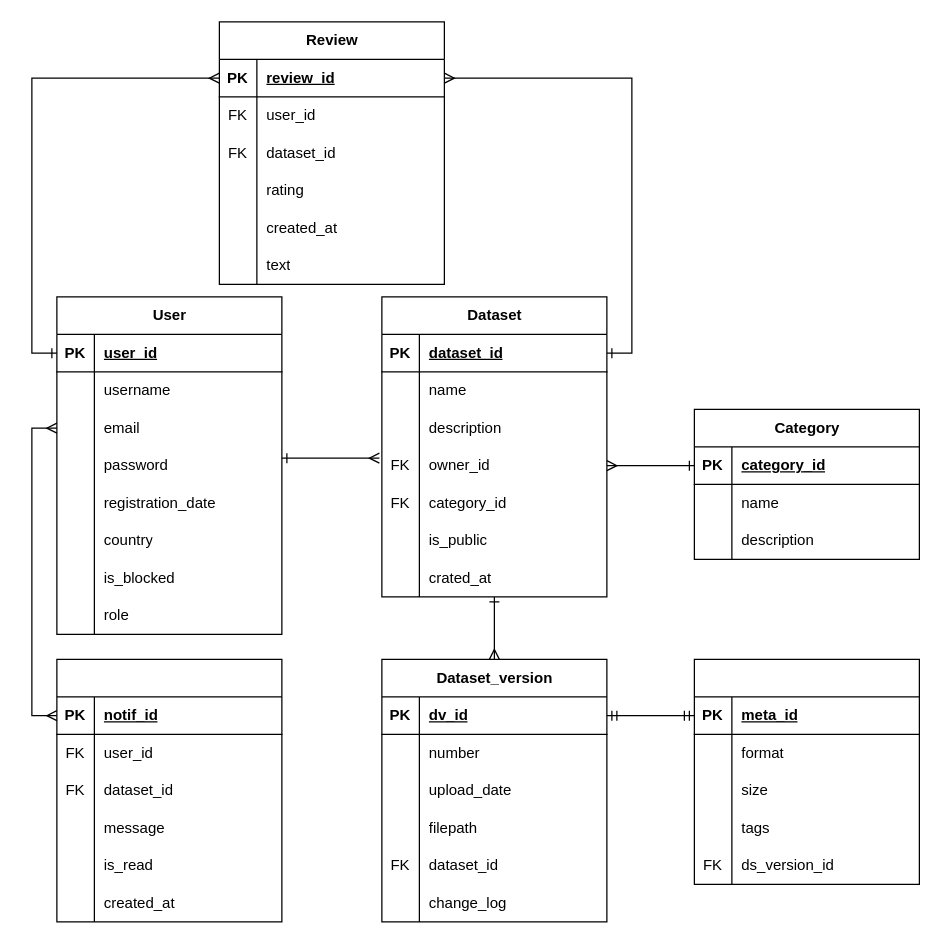
This 941x944 diagram has some shape labels left out. The box of each missing label's shape, as (x1, y1, x2, y2) in pixels:
Metadata: (693, 658, 919, 884)
Notification: (56, 658, 282, 922)
